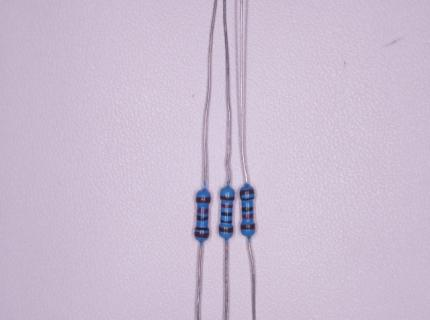Black band: (241, 196, 255, 202), (194, 226, 209, 231), (197, 215, 209, 221), (220, 211, 232, 217), (220, 218, 232, 224), (241, 207, 254, 212)
Brown band: (239, 188, 255, 196), (194, 231, 210, 239), (196, 196, 211, 204), (218, 226, 234, 233), (240, 223, 256, 230), (220, 195, 235, 201)
Red band: (196, 207, 209, 214), (220, 203, 233, 209), (242, 214, 254, 219)
